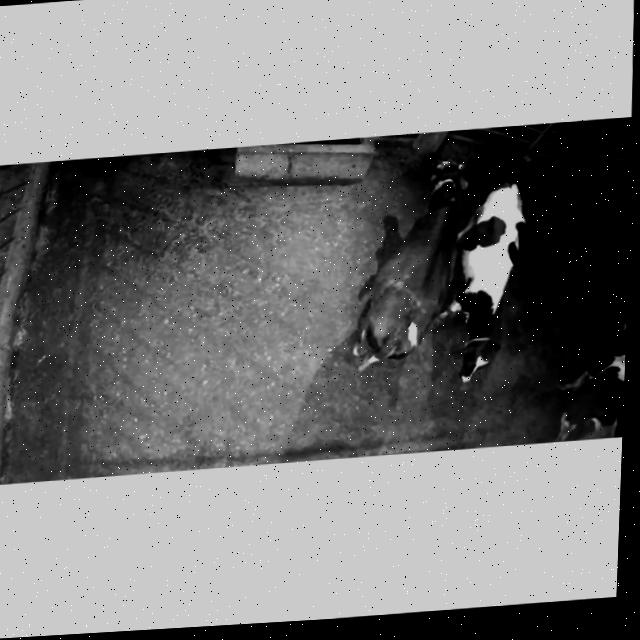stand: (340, 144, 462, 382), (433, 176, 524, 390), (508, 285, 628, 446)
